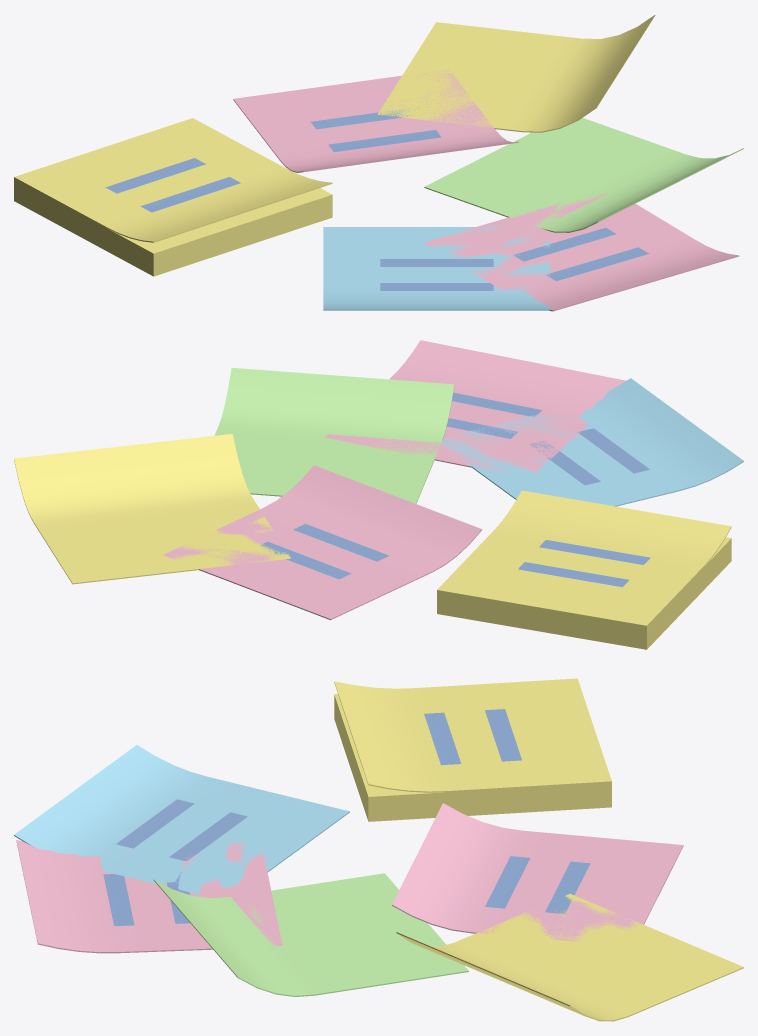
Rendered from paper_post_it_cluster.fbx.
3 views of the same model, one above another, from view 1: azimuth 30°, elevation 25°; view 2: azimuth 150°, elevation 25°; view 3: azimuth 270°, elevation 25° (orthographic). The views are drawn at different scales.
Parts seen in each view (by area): view 1: paper_post_it_cluster; view 2: paper_post_it_cluster; view 3: paper_post_it_cluster.
Part boxes in pixels (left/top/right/bottom): paper_post_it_cluster: left=14, top=15, right=743, bottom=311; paper_post_it_cluster: left=14, top=340, right=743, bottom=649; paper_post_it_cluster: left=14, top=678, right=743, bottom=1021.
Size of the model in its own units: 0.2467 by 0.0129 by 0.2256.
